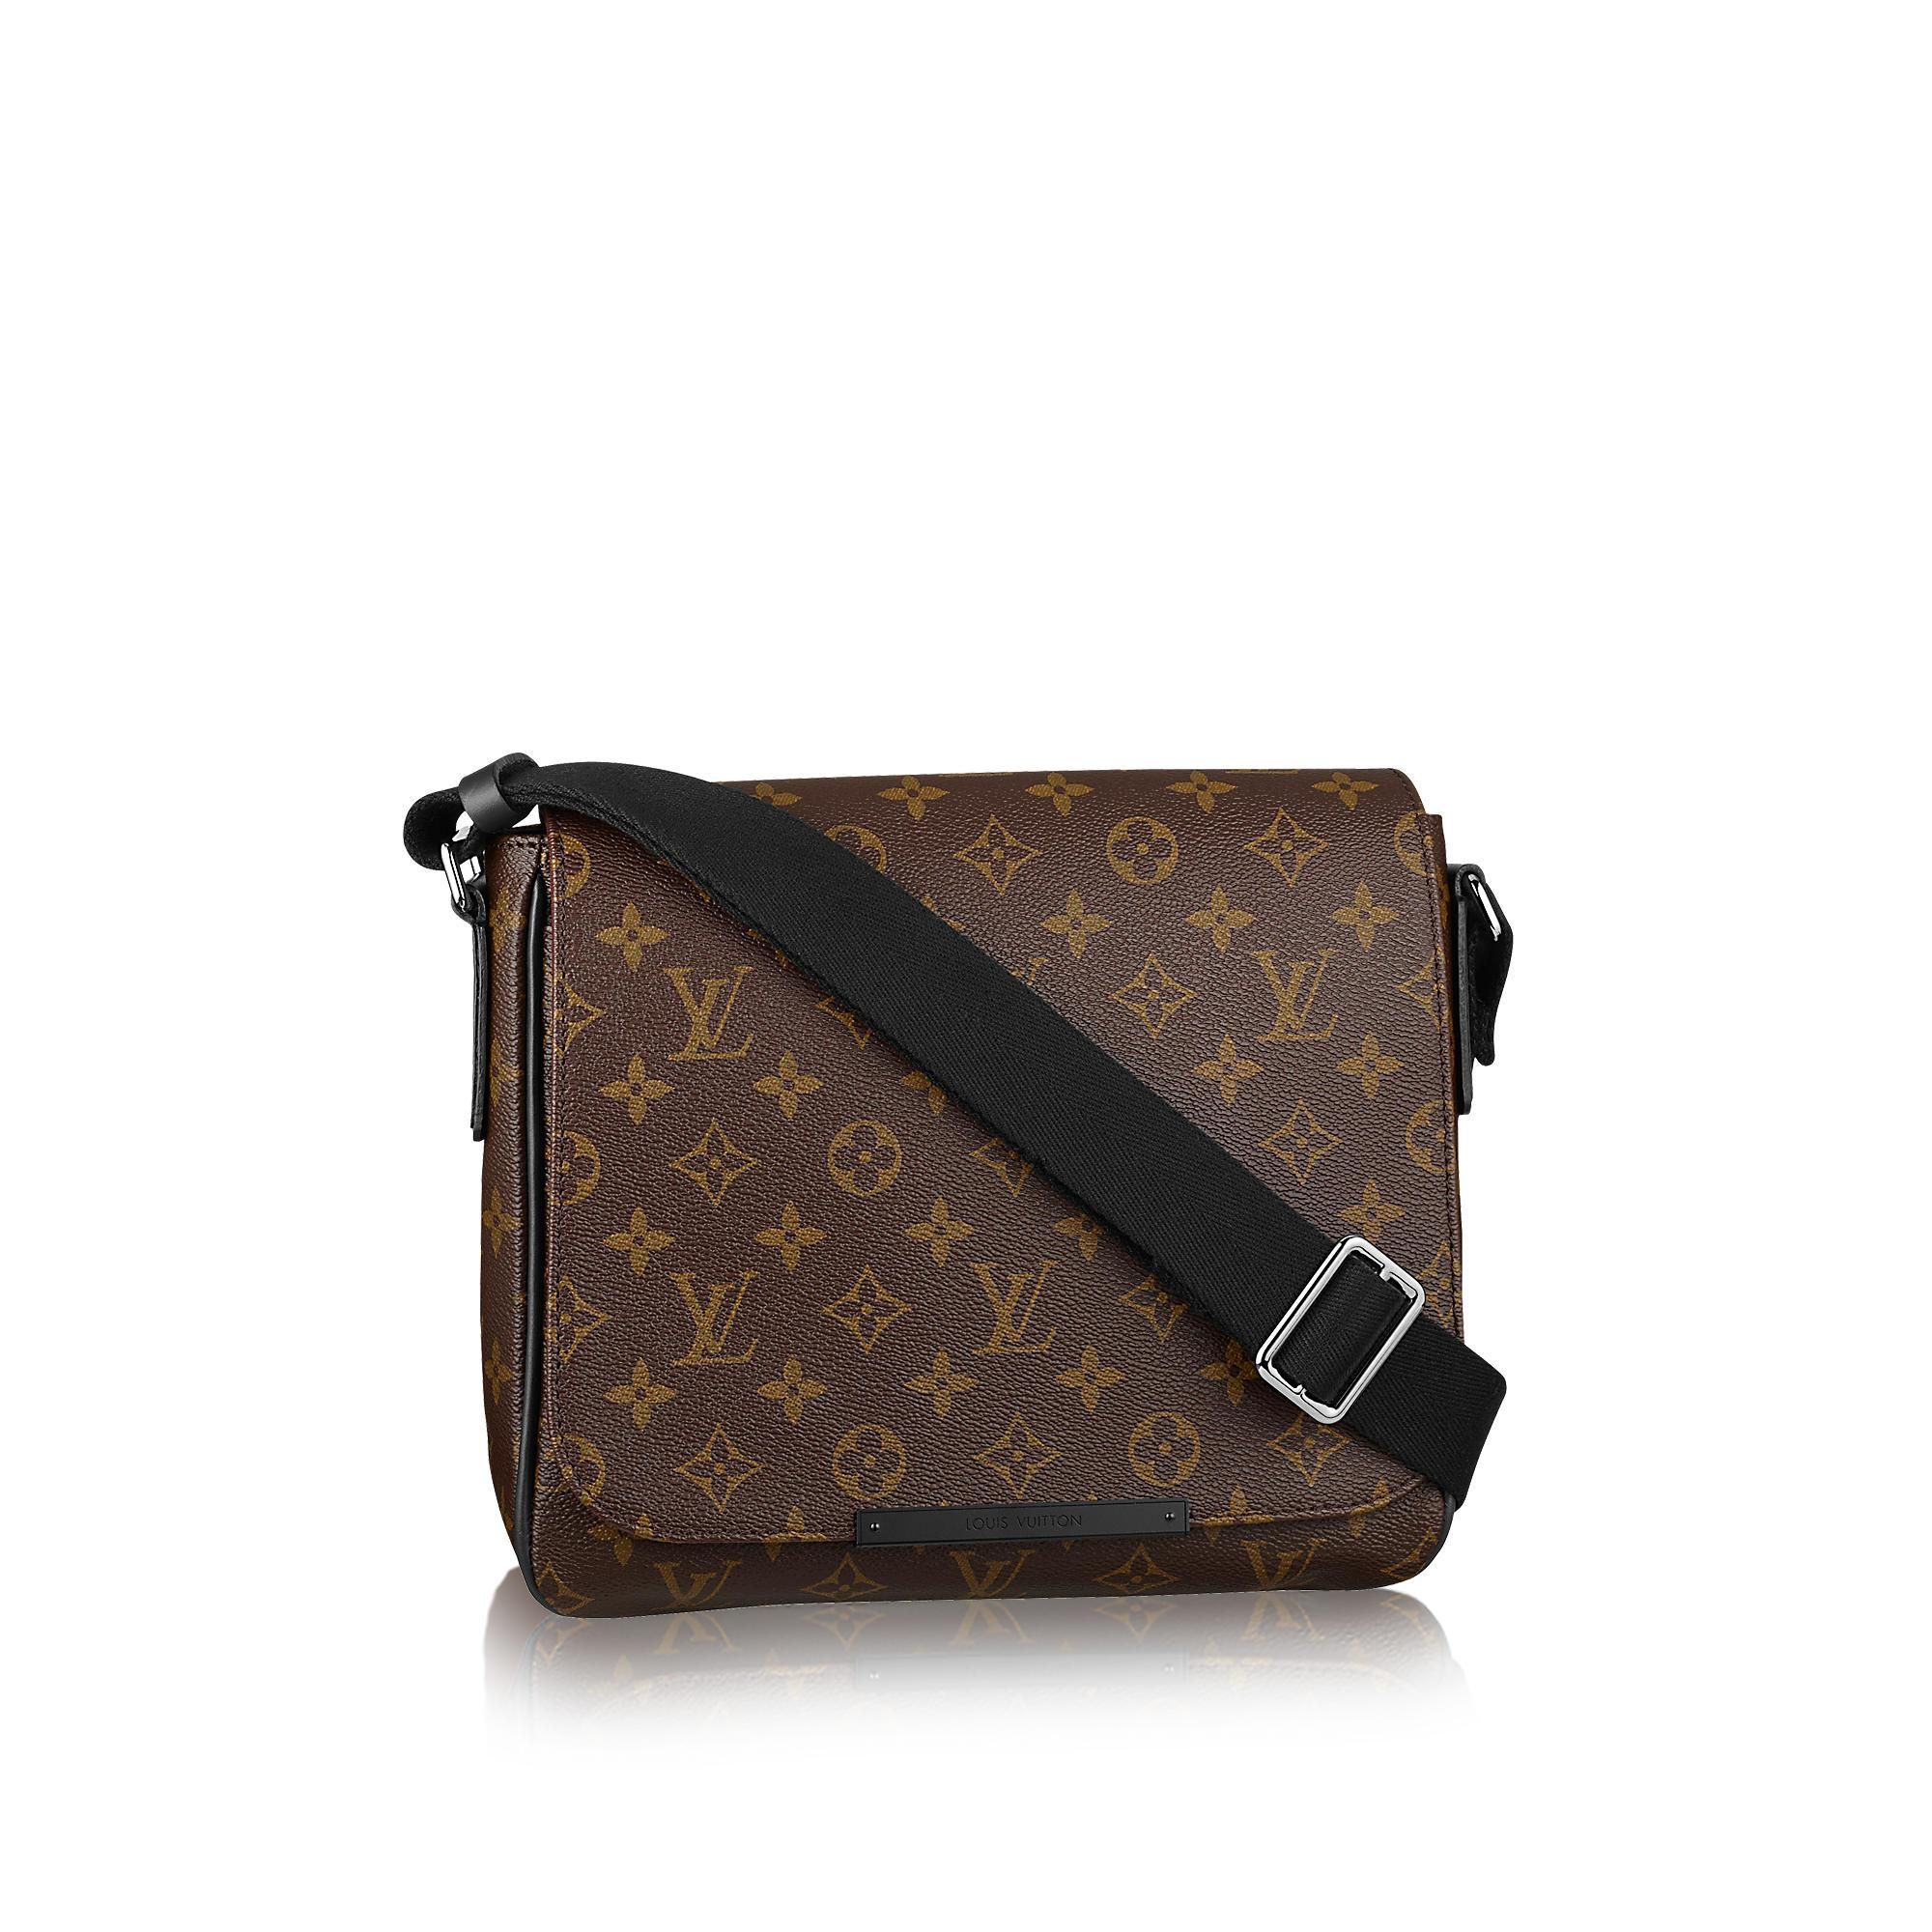LOUIS-VUITTON: (658, 1270, 761, 1371), (964, 1256, 1062, 1359), (660, 962, 754, 1067), (1256, 947, 1336, 1047)
